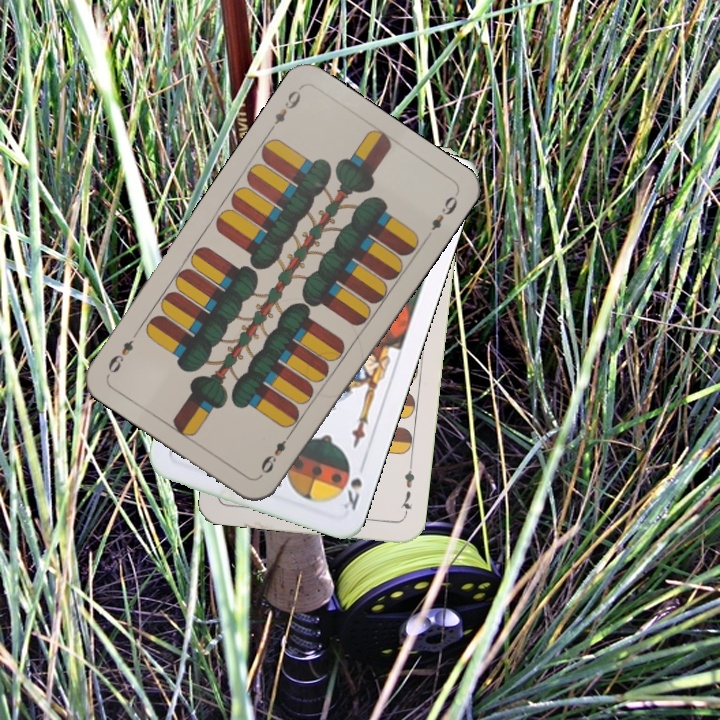E7: (396, 460, 417, 519)
E9: (256, 428, 295, 477), (265, 86, 304, 135)
SK: (336, 473, 365, 513)
